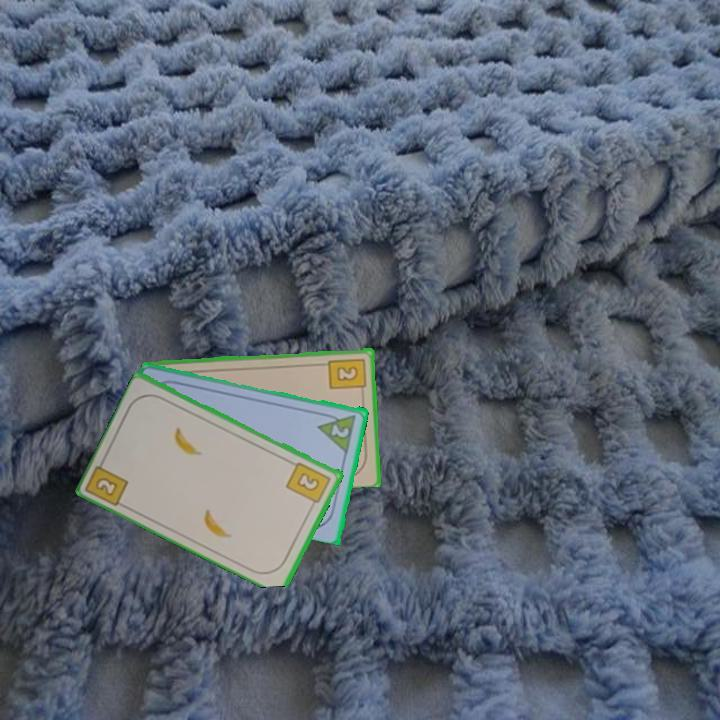2b: (283, 458, 334, 511), (84, 453, 132, 509), (326, 354, 369, 396)
2p: (328, 421, 352, 440)
